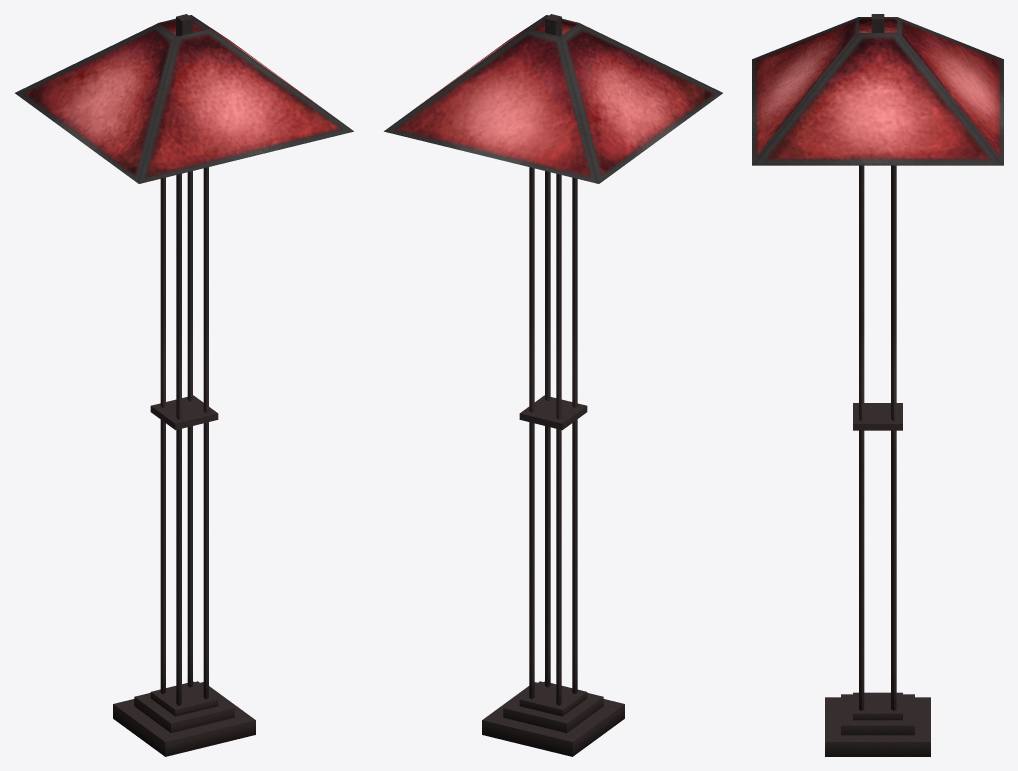
File: Lamp6.fbx
3 views of the same model, side by side, from view 1: azimuth 30°, elevation 25°; view 2: azimuth 150°, elevation 25°; view 3: azimuth 270°, elevation 25° (orthographic).
Visible parts, largest first — view 1: Empty_Mesh; view 2: Empty_Mesh; view 3: Empty_Mesh.
Part boxes in pixels (bbox=[...]): Empty_Mesh: bbox=[15, 14, 353, 756]; Empty_Mesh: bbox=[384, 14, 722, 756]; Empty_Mesh: bbox=[752, 14, 1003, 756].
Size of the model in its own units: 58.98 by 185 by 58.98.
